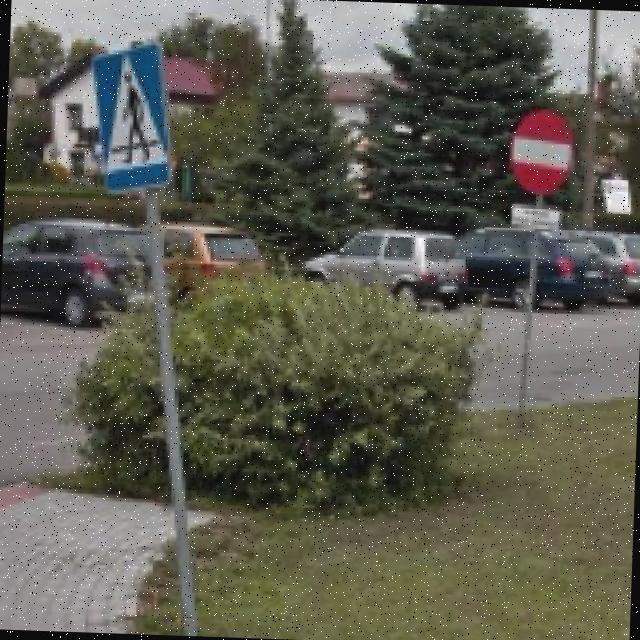Przejscie dla pieszych: (84, 38, 175, 196)
Zakaz wjazdu: (506, 106, 574, 196)
